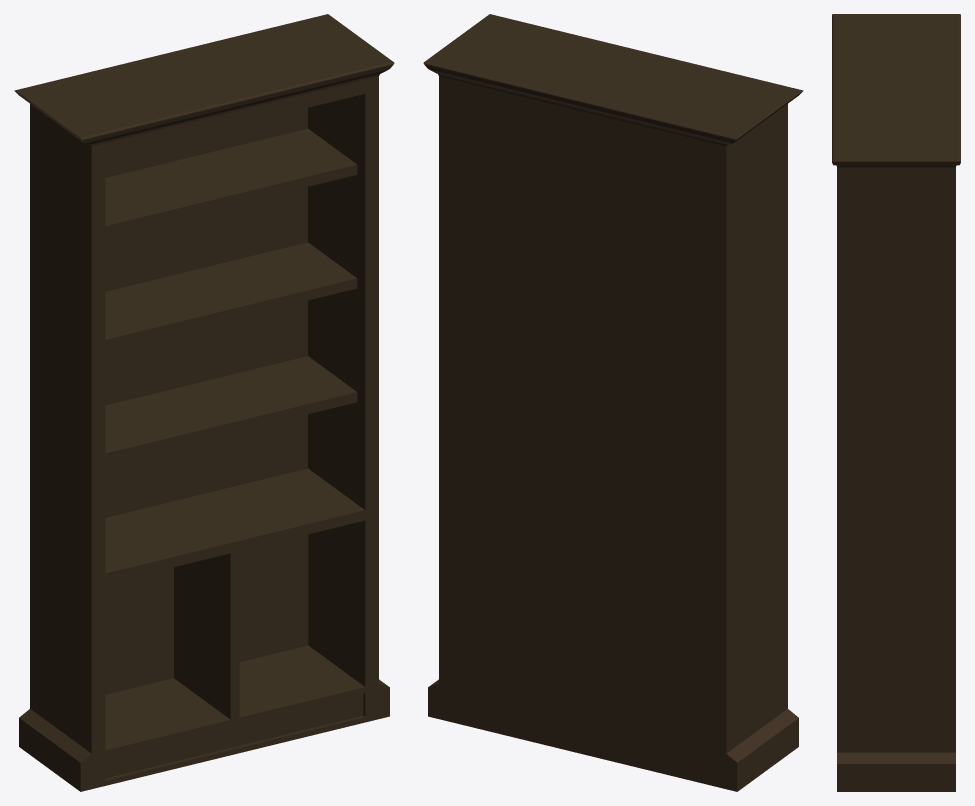
The model's file is Bookcase_1.fbx.
The picture shows the model from 3 angles, left to right: view 1: azimuth 30°, elevation 25°; view 2: azimuth 150°, elevation 25°; view 3: azimuth 270°, elevation 25°; orthographic projection. The views are drawn at different scales.
Parts seen in each view (by area): view 1: Bookcase_1; view 2: Bookcase_1; view 3: Bookcase_1.
Part boxes in pixels (<box>): Bookcase_1: <box>14,14,394,791</box>; Bookcase_1: <box>423,14,803,791</box>; Bookcase_1: <box>832,14,960,791</box>.
Bounding box in the file's own units: 100 × 200 × 37.
